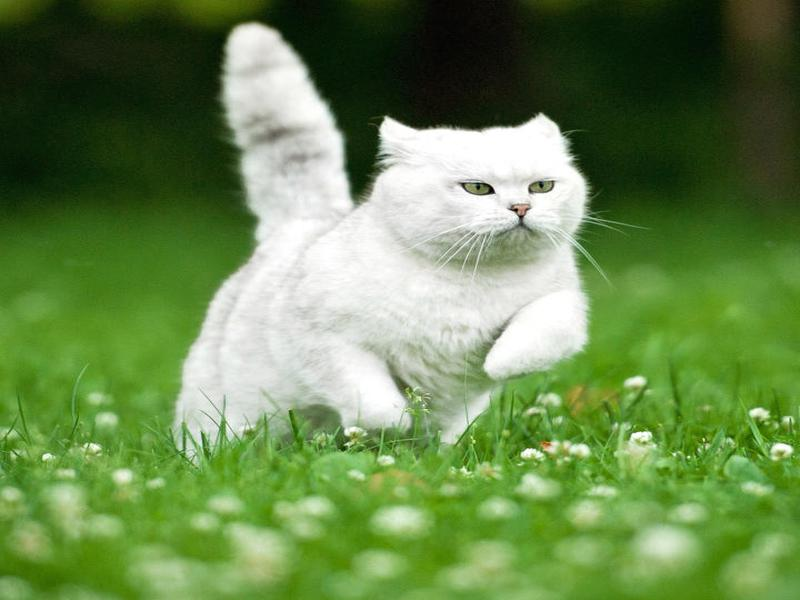cat: (170, 16, 613, 462)
